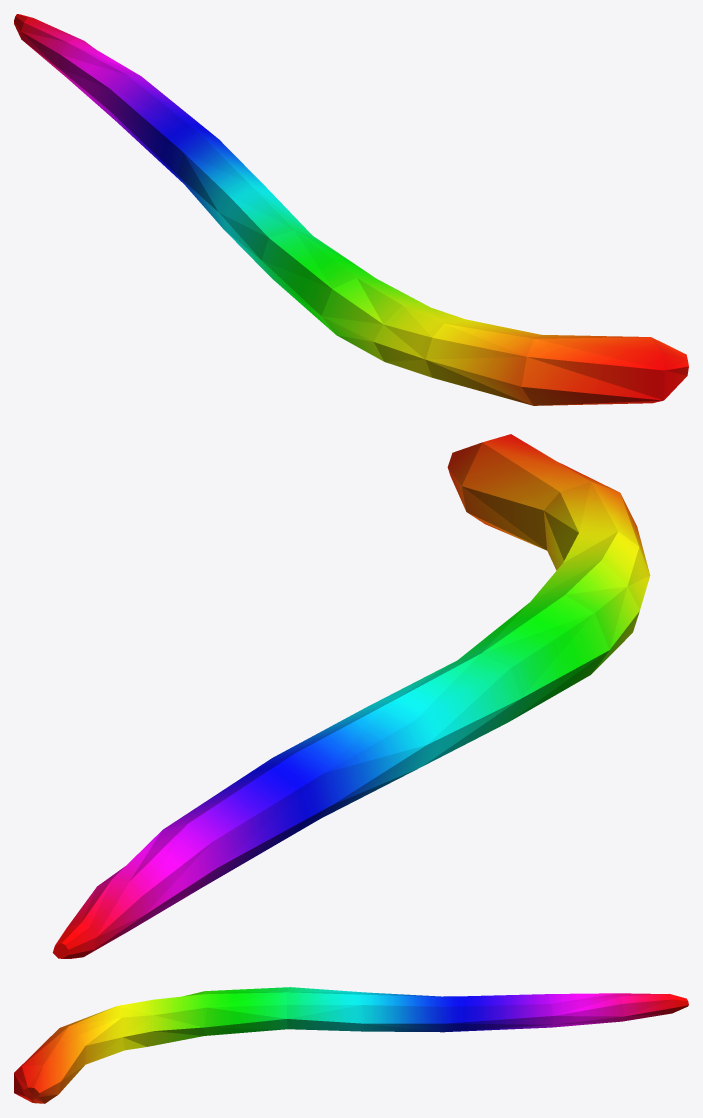
The model's file is Cane.fbx.
3 views of the same model, one above another, from view 1: azimuth 30°, elevation 25°; view 2: azimuth 150°, elevation 25°; view 3: azimuth 270°, elevation 25° (orthographic). The views are drawn at different scales.
Parts seen in each view (by area): view 1: Cane; view 2: Cane; view 3: Cane.
Boxes of the visible parts, box(x1,y1,x2,y2) form: Cane: box(14, 14, 688, 405); Cane: box(52, 434, 650, 958); Cane: box(14, 987, 688, 1103).
Size of the model in its own units: 24.15 by 8.42 by 86.12.
1 material, 1 textured.
